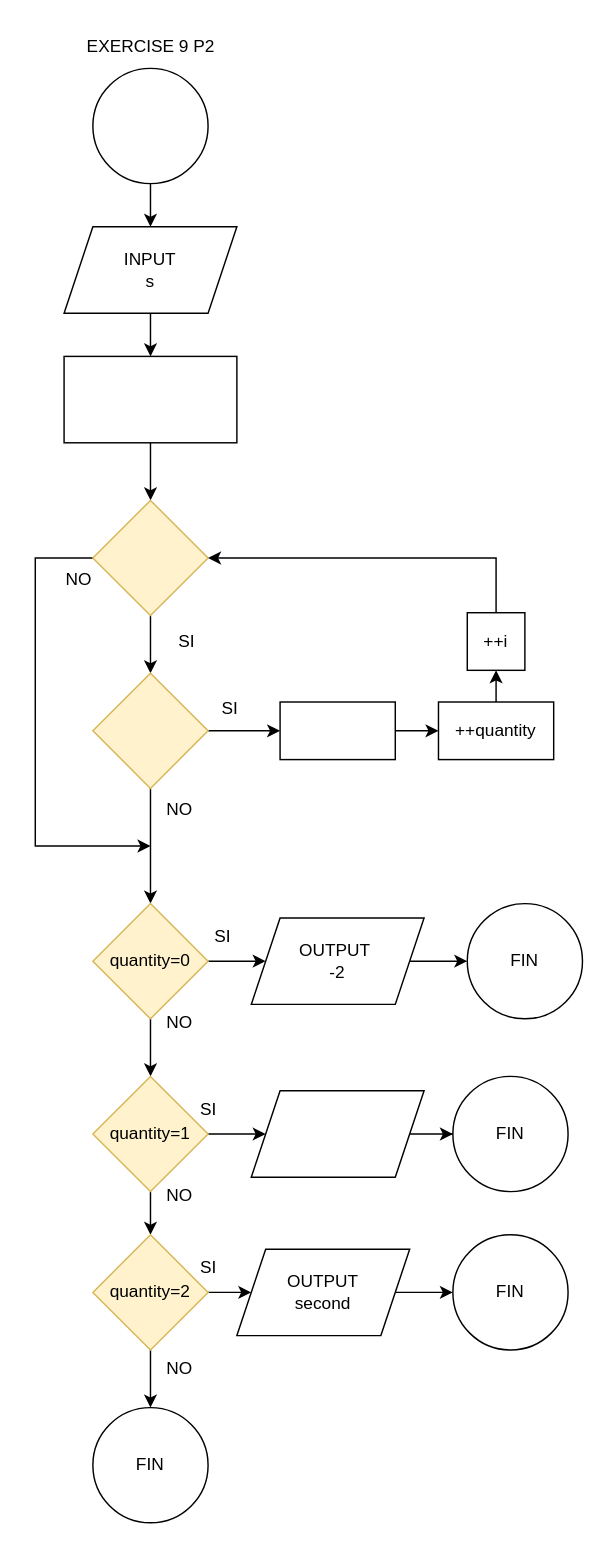
Image size: 608x1548. Some labels were removed from this diagram. Each missing label, with the centre of its shape:
"i <= s.size()" belongs at pixel 149 557.
"INICIO" belongs at pixel 149 125.
"OUTPUT -1" belongs at pixel 337 1133.
"quantity = 0 second = 0 i = 0" belongs at pixel 150 399.
"s [i]== ' f '" belongs at pixel 149 730.
"second = i" belongs at pixel 337 730.
